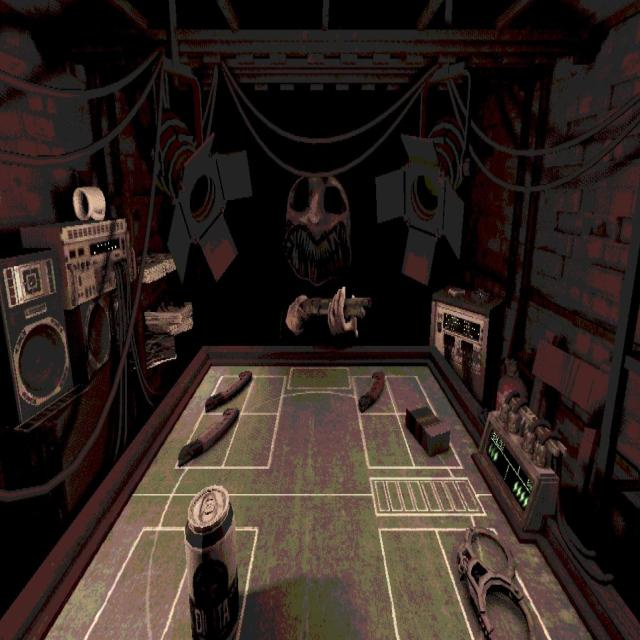can: (185, 485, 238, 639)
cigar: (406, 408, 450, 456)
doubledamage: (178, 408, 240, 466), (205, 370, 252, 413), (358, 373, 384, 413)
handcuff: (456, 526, 535, 639)
